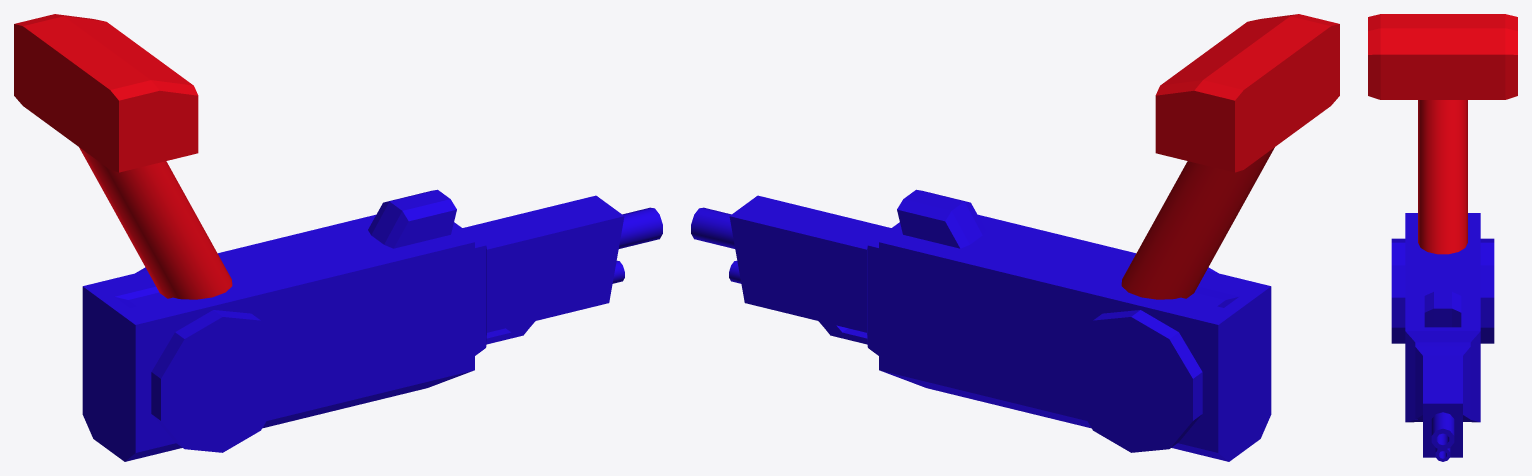
File: Turret.fbx
3 renders of one model, left to right at view 1: azimuth 30°, elevation 25°; view 2: azimuth 150°, elevation 25°; view 3: azimuth 270°, elevation 25°, orthographic. The views are drawn at different scales.
Parts seen in each view (by area): view 1: Gun, Base; view 2: Gun, Base; view 3: Base, Gun.
Part boxes in pixels (bbox=[...]): Gun: bbox=[82, 189, 662, 461]; Base: bbox=[14, 14, 232, 299]; Gun: bbox=[691, 189, 1271, 461]; Base: bbox=[1121, 14, 1339, 299]; Base: bbox=[1368, 14, 1517, 254]; Gun: bbox=[1391, 213, 1494, 461].
Bounding box in the file's own units: 138 × 90.09 × 42.52.
